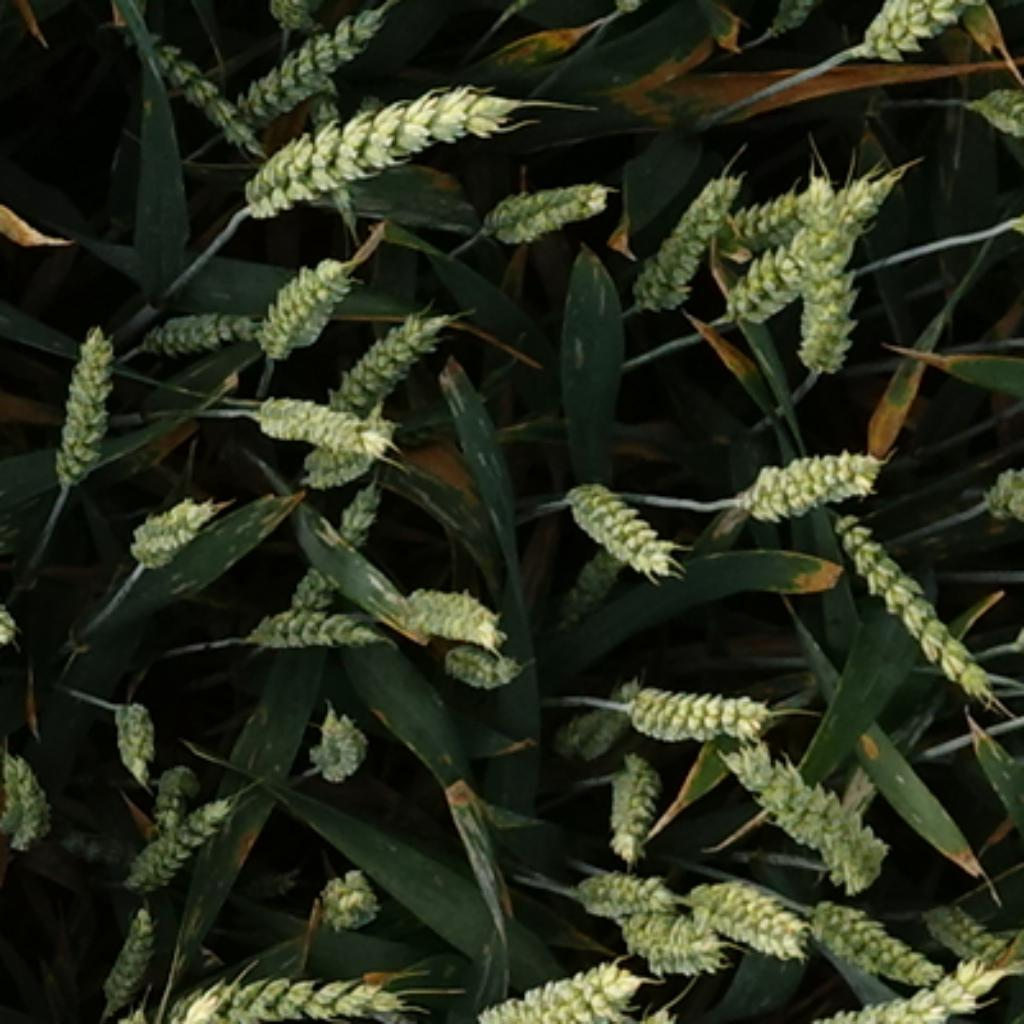0-0: (215, 76, 506, 217), (711, 158, 906, 332), (819, 494, 985, 693), (721, 732, 901, 878), (207, 2, 409, 128), (117, 20, 273, 161), (785, 156, 875, 391), (737, 961, 1020, 1024), (622, 161, 739, 312), (125, 785, 256, 913), (289, 473, 394, 619), (178, 954, 391, 1024), (726, 443, 895, 530), (564, 481, 690, 597), (460, 947, 645, 1024), (327, 296, 453, 409), (48, 314, 125, 481), (798, 890, 934, 983), (302, 79, 376, 248), (245, 240, 358, 350), (709, 174, 847, 261), (604, 670, 775, 739), (476, 166, 616, 243), (245, 384, 386, 460), (291, 414, 417, 496), (693, 878, 808, 960), (381, 570, 509, 642), (852, 2, 1000, 64), (623, 903, 728, 982), (250, 606, 389, 665), (122, 483, 222, 563), (604, 742, 670, 849), (94, 903, 163, 1003), (140, 296, 256, 355), (565, 860, 680, 919), (916, 888, 1008, 960), (0, 739, 58, 844), (296, 709, 370, 789), (558, 683, 637, 755), (304, 855, 384, 926), (422, 629, 524, 683), (53, 826, 153, 878), (954, 74, 1024, 145), (562, 547, 633, 616), (103, 701, 162, 783), (148, 765, 209, 837), (752, 2, 821, 51), (980, 465, 1024, 524)
